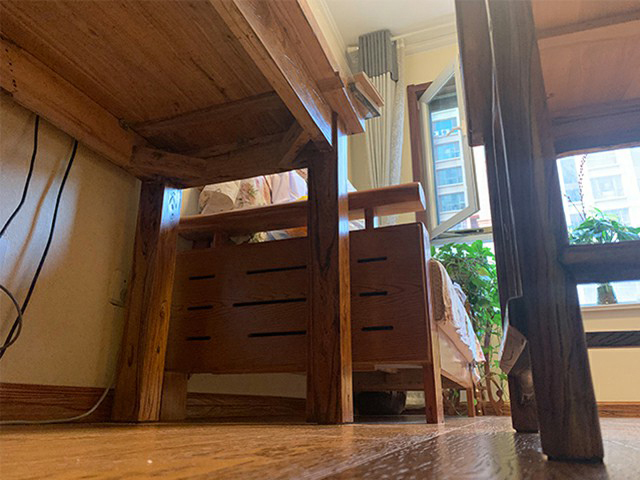sofa: (159, 171, 487, 423)
stool: (454, 1, 640, 461)
table: (3, 1, 368, 425)
wire: (1, 145, 83, 425)
